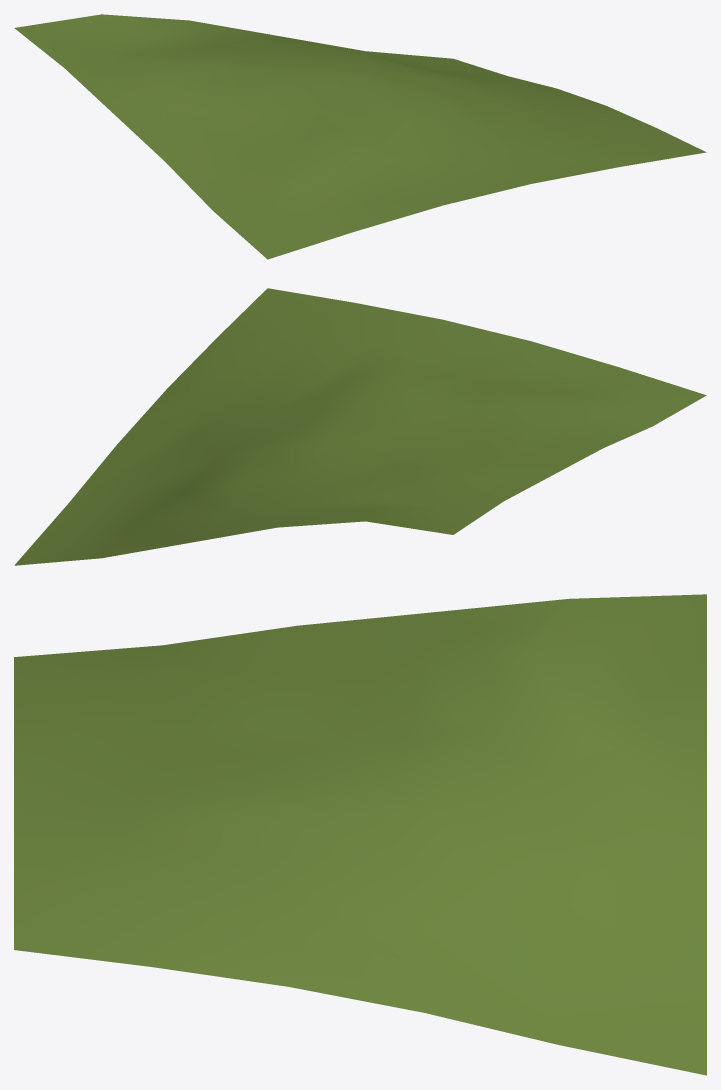
File: rpgpp_ag_terrain_hill_01d_10x10m_1-3-2-0m.fbx
The picture shows the model from 3 angles, top to bottom: view 1: azimuth 30°, elevation 25°; view 2: azimuth 150°, elevation 25°; view 3: azimuth 270°, elevation 25°; orthographic projection. The views are drawn at different scales.
Visible parts, largest first — view 1: rpgpp_ag_terrain_hill_01d_10x10m_1-3-2-0m; view 2: rpgpp_ag_terrain_hill_01d_10x10m_1-3-2-0m; view 3: rpgpp_ag_terrain_hill_01d_10x10m_1-3-2-0m.
Boxes of the visible parts, <box> form: rpgpp_ag_terrain_hill_01d_10x10m_1-3-2-0m: <box>14,14,706,259</box>; rpgpp_ag_terrain_hill_01d_10x10m_1-3-2-0m: <box>14,288,706,565</box>; rpgpp_ag_terrain_hill_01d_10x10m_1-3-2-0m: <box>14,594,706,1075</box>.
Bounding box in the file's own units: 10 × 3 × 10.
